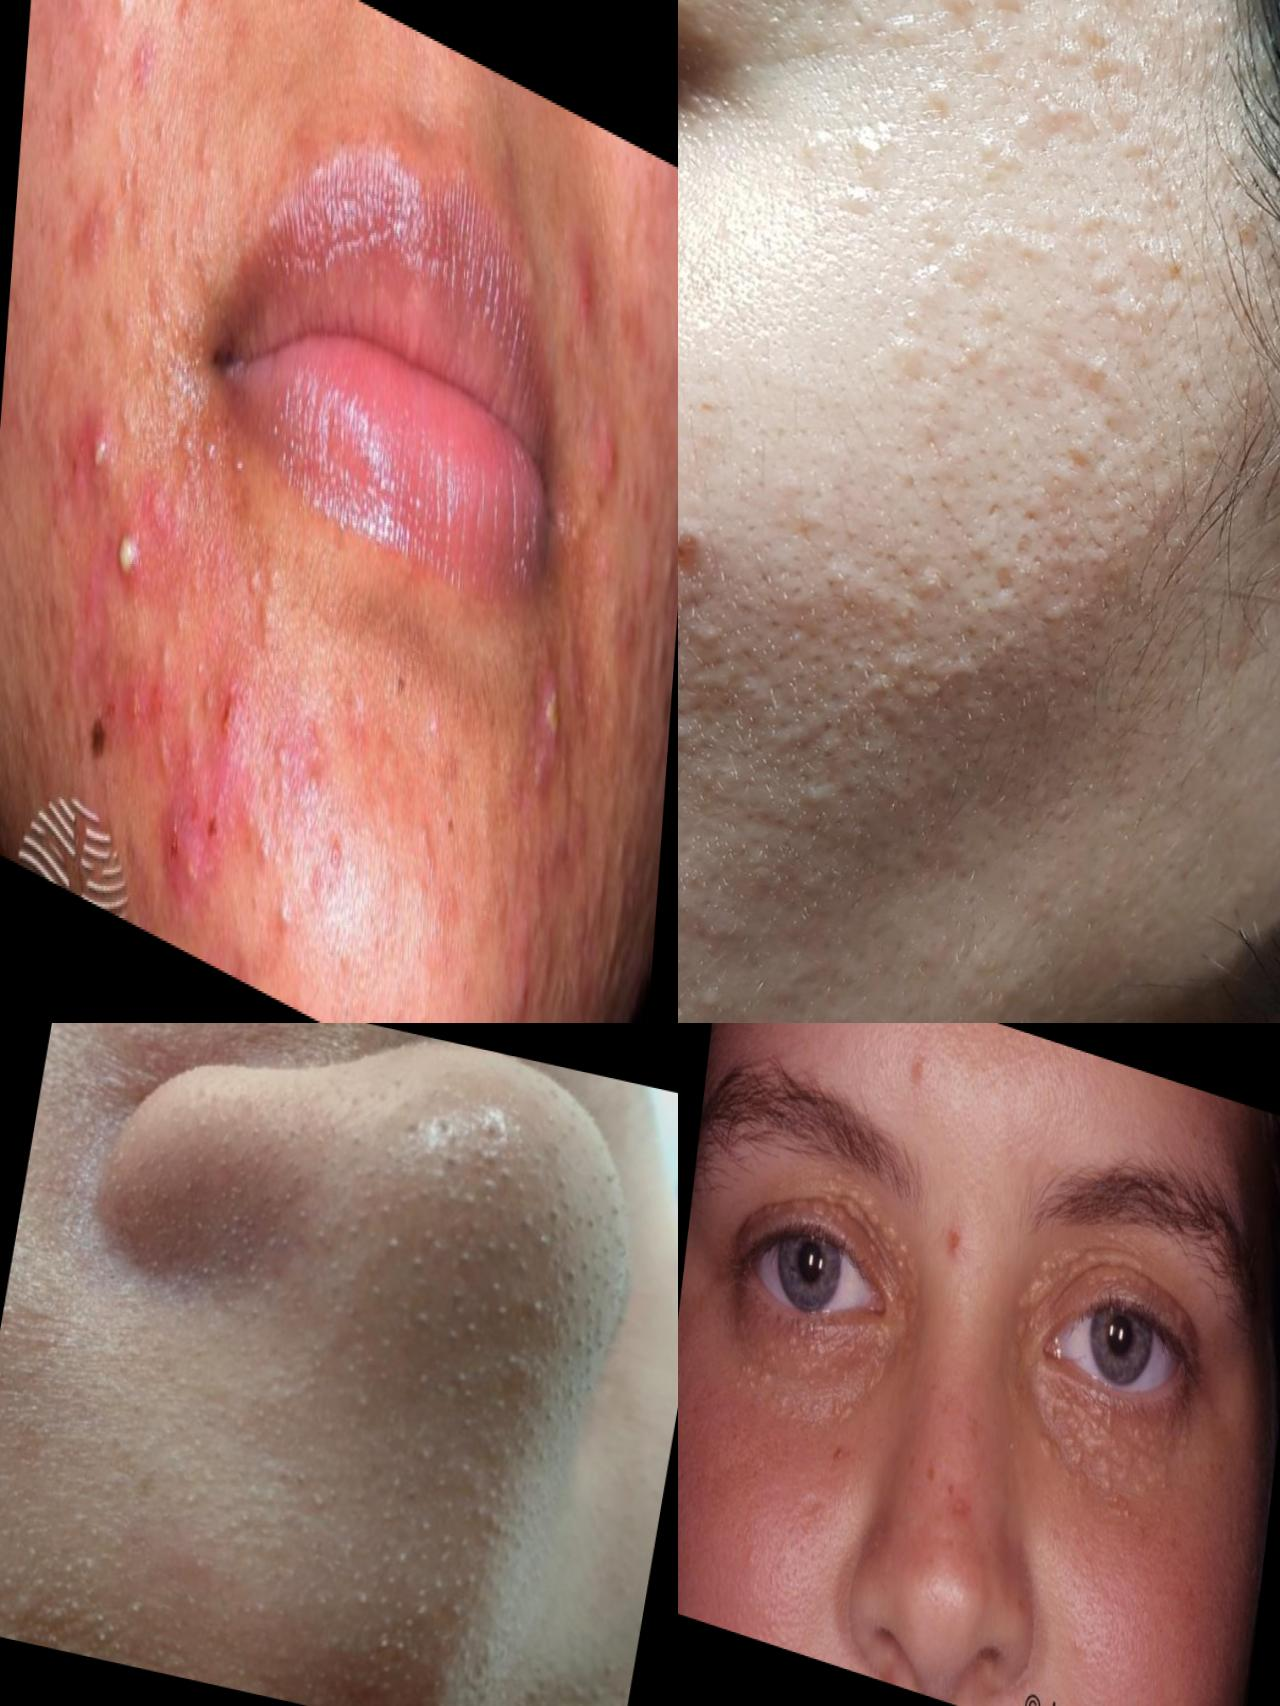blackhead: (421, 1455, 545, 1586), (290, 1184, 391, 1311), (432, 1104, 531, 1223), (401, 1180, 508, 1291), (397, 1563, 503, 1674), (354, 1518, 440, 1629), (543, 1196, 629, 1305), (346, 1319, 436, 1418), (376, 1405, 465, 1504), (463, 1383, 559, 1473), (358, 1157, 441, 1258), (364, 1071, 454, 1163), (151, 1217, 234, 1305), (479, 1270, 563, 1356), (510, 1114, 588, 1207), (485, 1196, 567, 1283), (210, 1196, 296, 1277), (424, 1334, 497, 1424), (410, 1270, 489, 1352), (264, 1148, 327, 1231), (485, 1332, 553, 1406), (538, 1339, 600, 1413), (553, 1291, 620, 1358), (321, 820, 355, 911)
flat_wart: (838, 212, 1030, 430), (994, 1, 1183, 165), (780, 97, 901, 188)
milium: (731, 1534, 773, 1601), (733, 1356, 764, 1406)
papular: (562, 237, 608, 363), (74, 183, 108, 288), (126, 32, 159, 116), (943, 1214, 976, 1278), (221, 695, 247, 768), (40, 1, 85, 35)
purulent: (106, 503, 148, 620), (83, 407, 122, 503), (601, 414, 633, 501), (183, 834, 208, 910)
sebo-crystan-conglo: (536, 669, 573, 764)
syringoma: (744, 1289, 908, 1408), (998, 1223, 1057, 1387), (1098, 1409, 1185, 1496), (1045, 1381, 1129, 1463), (1025, 1219, 1098, 1295), (791, 1366, 869, 1436), (861, 1206, 921, 1278), (811, 1168, 877, 1225), (1041, 1420, 1090, 1479)
whitehead: (887, 532, 1111, 678), (679, 569, 752, 679), (87, 17, 118, 138), (567, 489, 598, 585), (270, 879, 304, 959), (242, 544, 268, 617), (155, 624, 182, 692), (155, 718, 179, 790), (202, 419, 223, 495), (177, 411, 199, 487), (229, 436, 251, 503)
